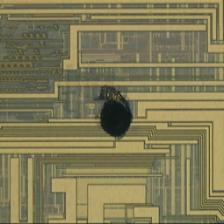PARTICLE: (91, 80, 139, 142)
